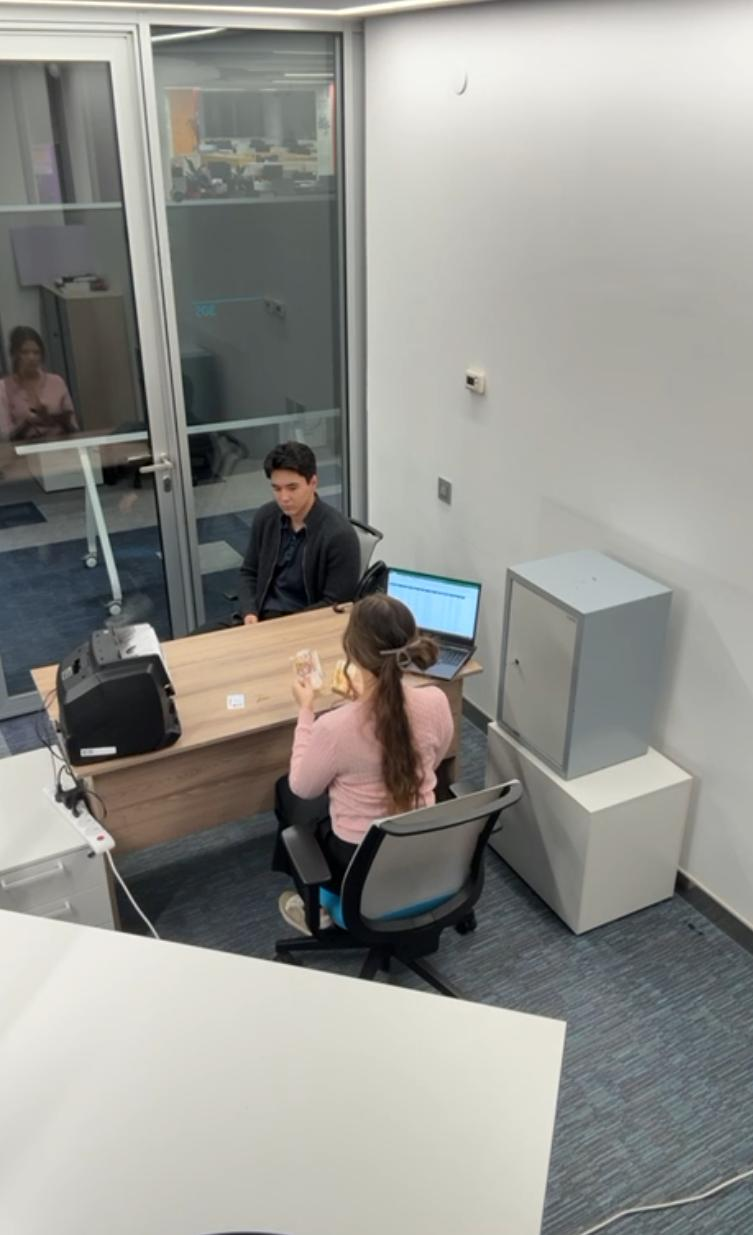cash_stack: (287, 647, 324, 693), (332, 658, 355, 693)
counter: (55, 621, 183, 768)
document: (225, 693, 247, 712)
key_in: (503, 657, 524, 679)
screen_on: (384, 570, 481, 647)
